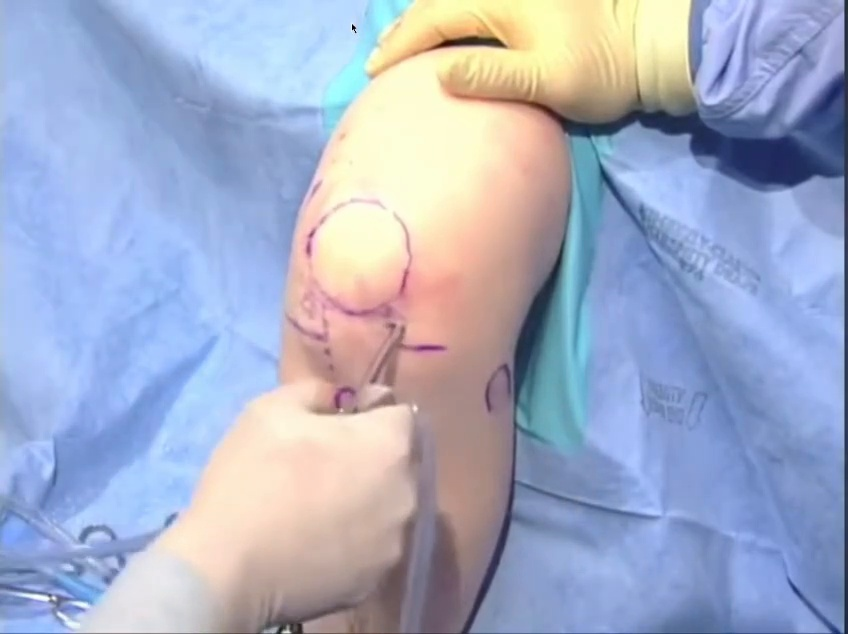arthroscope: (424, 31, 848, 634), (142, 158, 402, 508)
probe: (571, 0, 848, 138), (578, 127, 754, 315), (220, 128, 309, 202), (24, 326, 85, 413)
